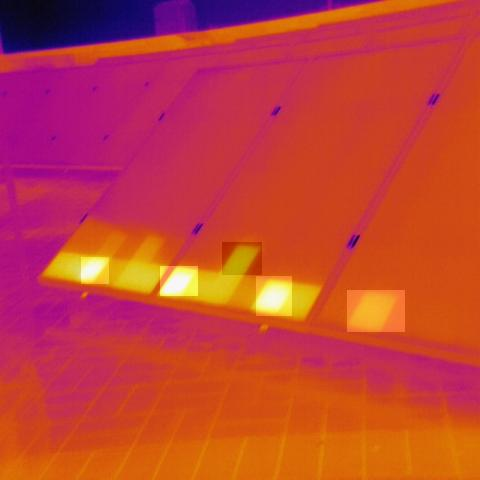fault: (347, 290, 405, 332), (256, 276, 292, 316), (222, 242, 262, 275), (160, 266, 198, 296), (81, 257, 110, 284)
